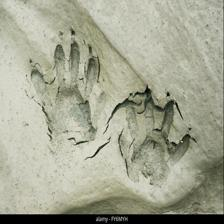raccoon: (107, 84, 195, 190), (25, 29, 101, 150)
